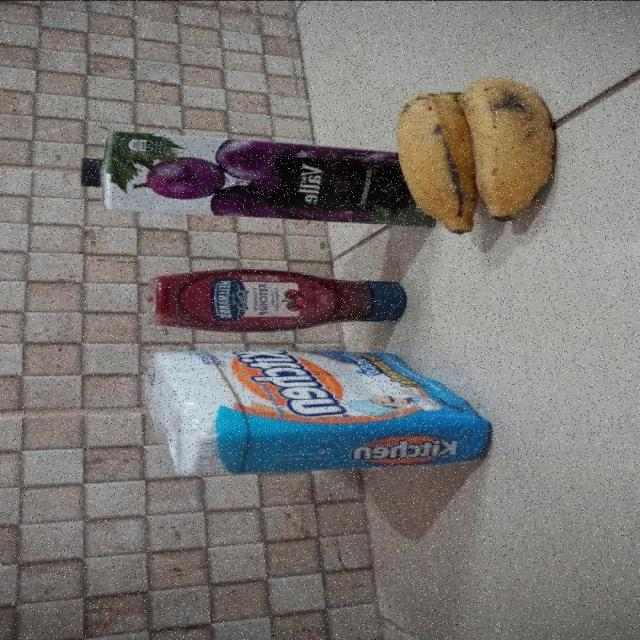Banana: (395, 77, 558, 236)
Ketchup: (149, 268, 408, 332)
Napkin: (142, 348, 494, 476)
